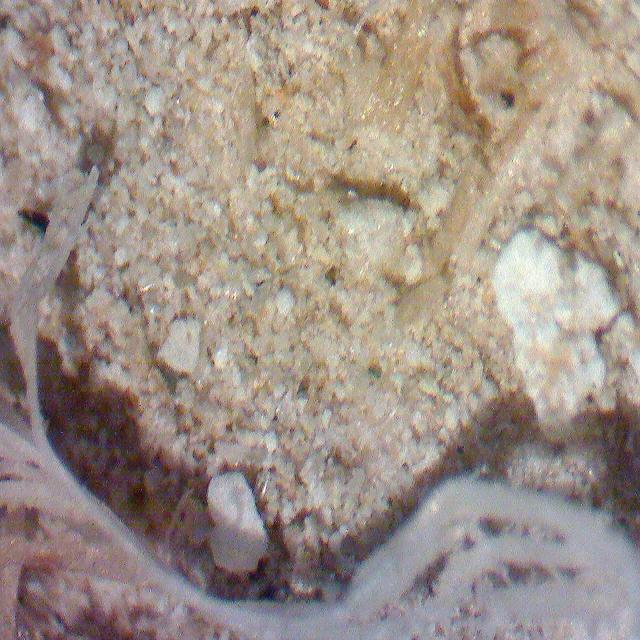microplastic: (0, 163, 640, 640)
